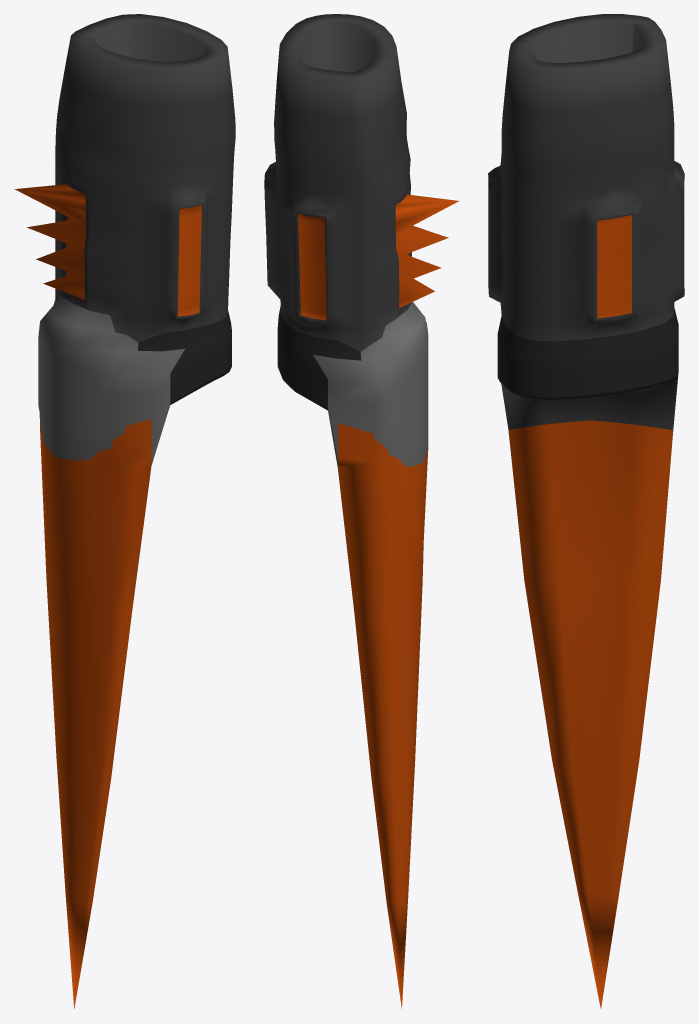
File: Sword.fbx
The picture shows the model from 3 angles, left to right: view 1: azimuth 30°, elevation 25°; view 2: azimuth 150°, elevation 25°; view 3: azimuth 270°, elevation 25°; orthographic projection. The views are drawn at different scales.
Parts seen in each view (by area): view 1: Weapon3.sword; view 2: Weapon3.sword; view 3: Weapon3.sword.
Boxes of the visible parts, x1,y1,x2,y2 form: Weapon3.sword: (14,14,235,1008); Weapon3.sword: (264,14,458,1008); Weapon3.sword: (488,14,684,1008).
Bounding box in the file's own units: 51.92 × 241 × 42.77.
